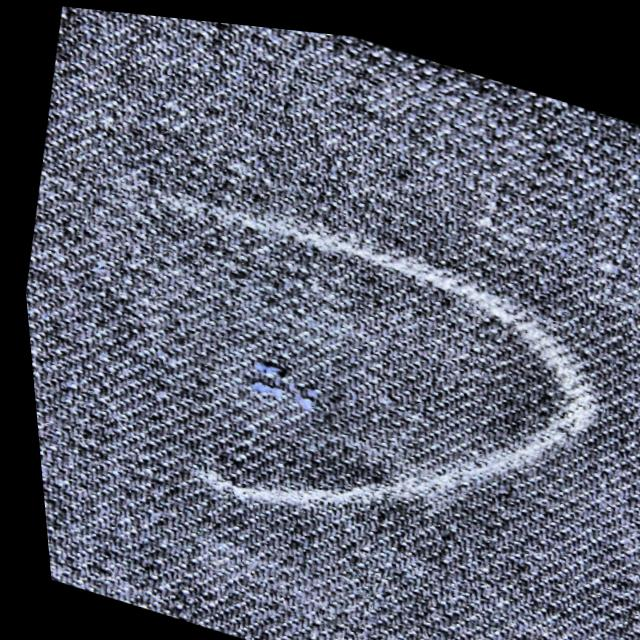Hole: (207, 332, 343, 426)
